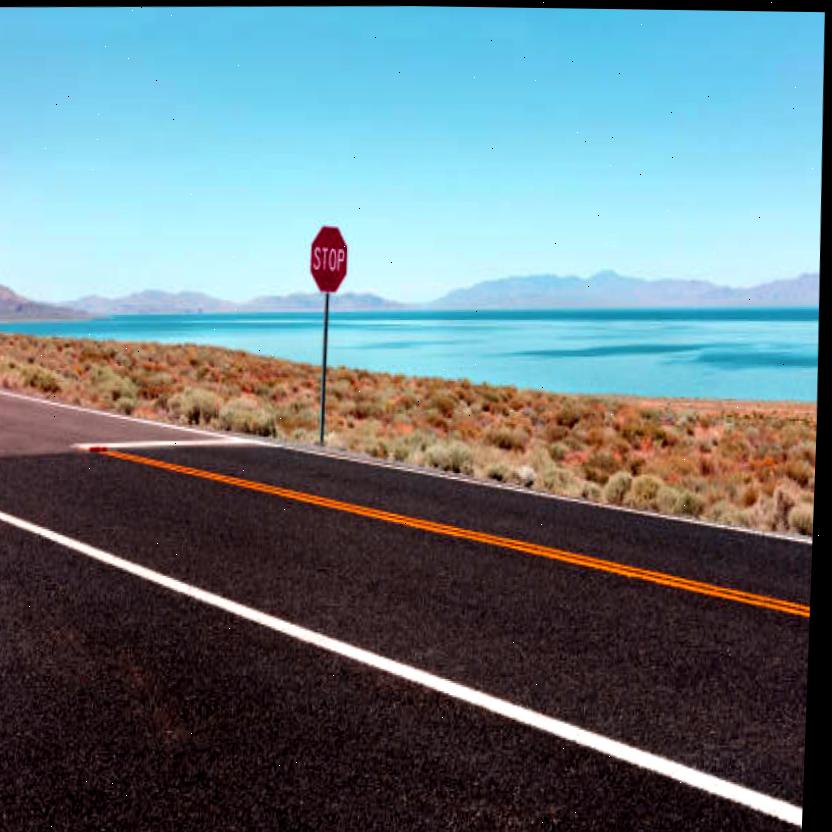Pole: (320, 291, 335, 442)
Sign: (311, 223, 351, 292)
